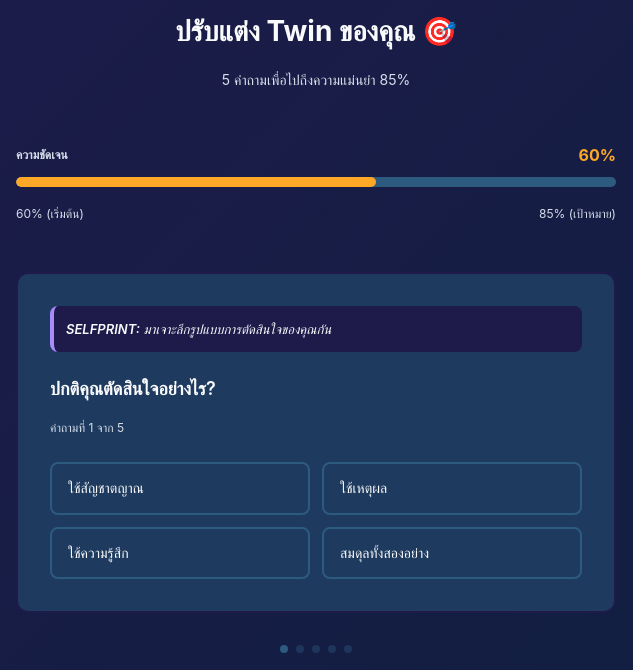
Test: FinetuningQuestions Component › should progress to next question after selection
Click the button "ใช้สัญชาตญาณ". click: (106, 488)
box: left=50, top=462, right=310, bottom=515
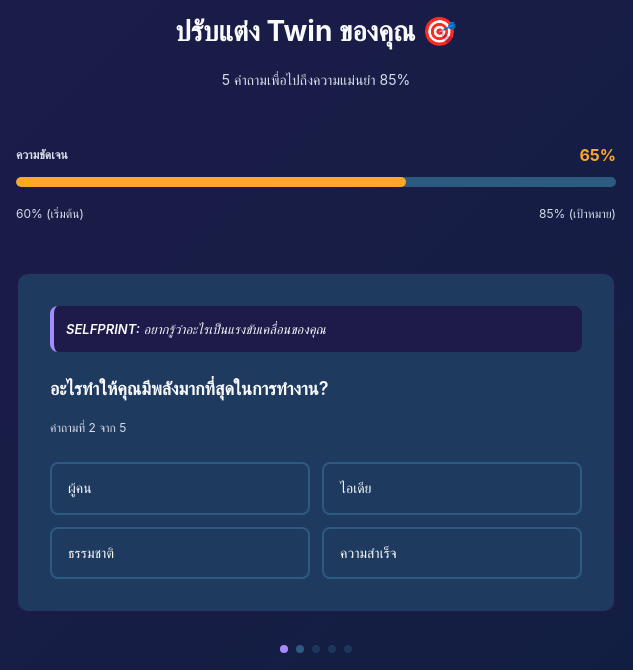
Expected: the text "คำถามที่ 2 จาก 5" is shown, left=50, top=420, right=126, bottom=435
